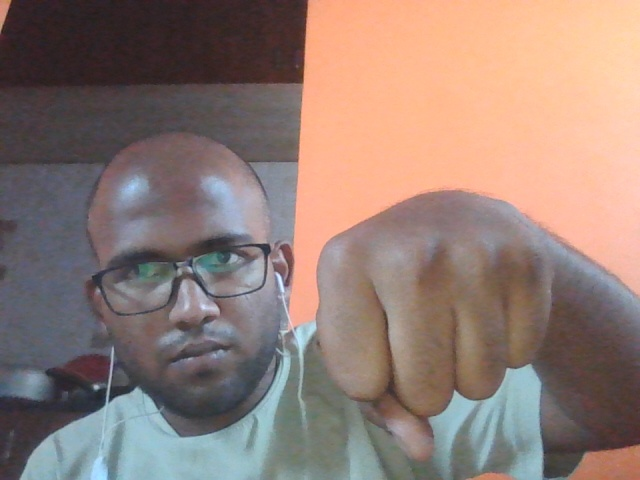yes: (276, 164, 597, 472)
